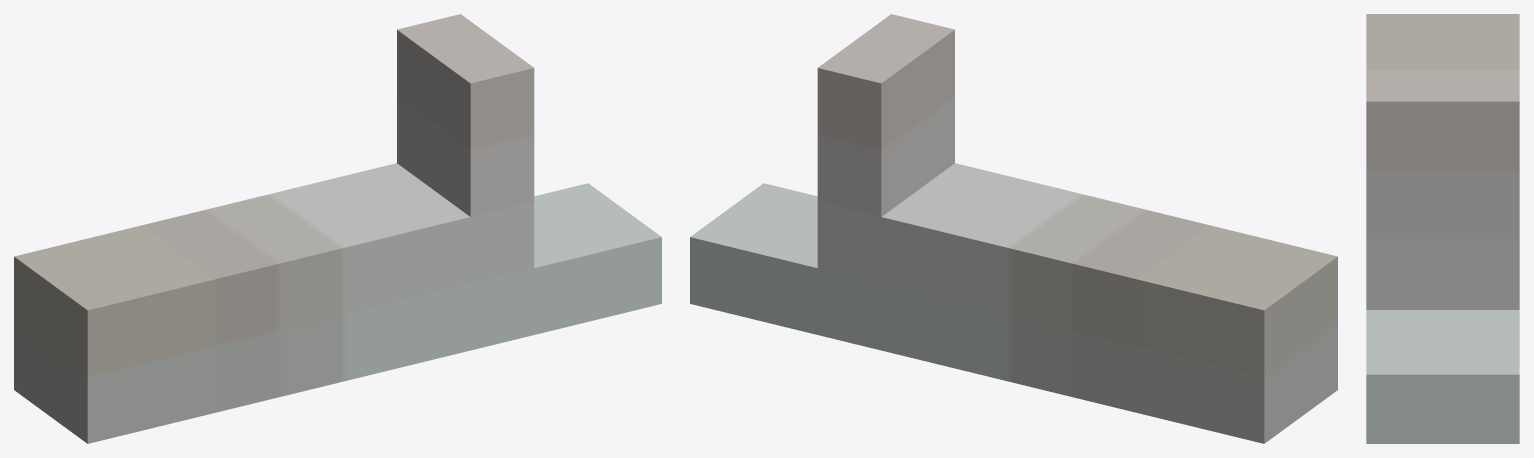
Rendered from Elbow062.fbx.
3 renders of one model, left to right at view 1: azimuth 30°, elevation 25°; view 2: azimuth 150°, elevation 25°; view 3: azimuth 270°, elevation 25°, orthographic. The views are drawn at different scales.
Visible parts, largest first — view 1: Elbow062; view 2: Elbow062; view 3: Elbow062.
Part boxes in pixels (x1,y1,x2,y2): Elbow062: [14, 14, 661, 443]; Elbow062: [690, 14, 1337, 443]; Elbow062: [1366, 14, 1519, 443].
Size of the model in its own units: 9 by 4 by 2.
